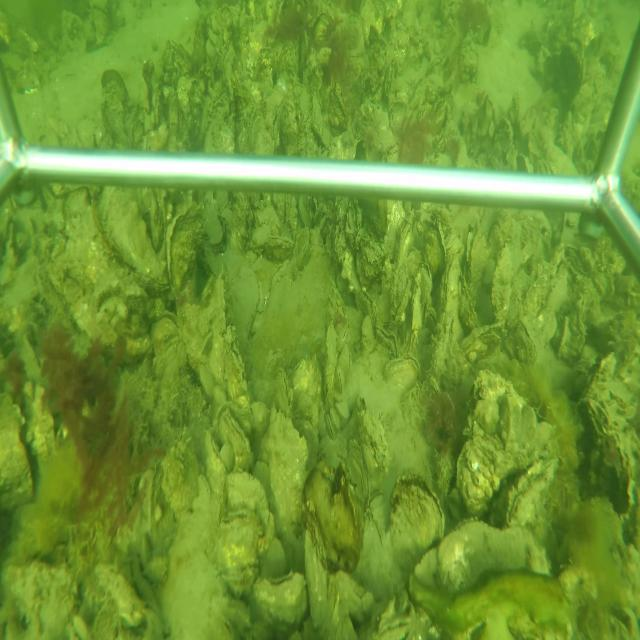Oyster-Closed: (434, 517, 551, 593), (575, 396, 638, 525), (98, 189, 163, 280), (506, 454, 560, 524), (165, 200, 204, 296), (212, 509, 263, 572), (304, 514, 332, 628), (252, 568, 306, 627), (342, 439, 369, 550), (226, 467, 270, 522), (491, 240, 520, 320), (216, 407, 253, 467), (203, 429, 229, 498), (245, 96, 277, 151), (440, 255, 462, 317), (385, 352, 422, 386), (323, 320, 337, 406), (466, 226, 486, 286), (270, 367, 294, 410), (514, 319, 537, 360), (264, 234, 293, 254), (324, 407, 338, 441), (298, 195, 313, 225)
Oyster-Indeterminate: (178, 271, 242, 405), (260, 408, 314, 550), (455, 431, 521, 512)
Oyster-Open: (390, 468, 449, 547), (150, 309, 180, 355), (374, 322, 397, 357)
